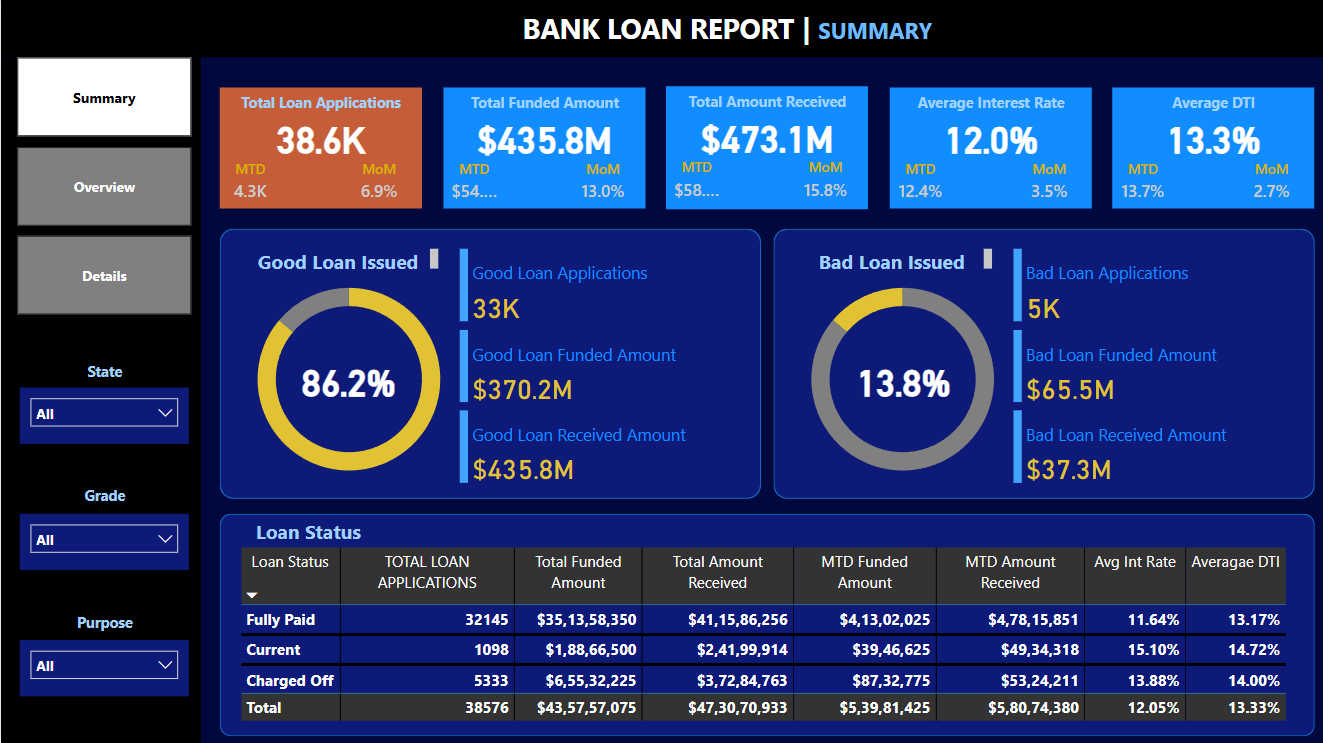

This screenshot's page, from the dashboard's own definition file:
{"tool":"powerbi","page":{"name":"Summary","canvas":[1280,720],"ordinal":0},"visuals":[{"type":"shape","box":[0,55.5,193,664.7],"z":0},{"type":"shape","box":[211.1,84.3,195.4,117],"z":0,"group":"g2"},{"type":"shape","box":[211.1,220.8,522.4,260.6],"z":0,"group":"g1"},{"type":"shape","box":[745.6,220.8,522.4,260.6],"z":0,"group":"g7"},{"type":"card","fields":{"Values":["public bankloan1.Total Amount Received"]},"box":[641.8,99.4,195.4,65.1],"z":1000,"group":"g4"},{"type":"card","fields":{"Values":["public bankloan1.TOTAL LOAN APPLICATIONS"]},"box":[211.1,100,195.4,65.1],"z":1000,"group":"g2"},{"type":"card","fields":{"Values":["public bankloan1.Total Funded Amount"]},"box":[426.5,100,195.4,65.1],"z":1000,"group":"g3"},{"type":"card","fields":{"Values":["public bankloan1.Avg Int Rate"]},"box":[857.2,100,195.4,65.1],"z":1000,"group":"g5"},{"type":"card","fields":{"Values":["public bankloan1.Averagae DTI"]},"box":[1072.5,100,195.4,65.1],"z":1000,"group":"g6"},{"type":"donutChart","fields":{"Category":["public bankloan1.Good vs Bad Loans"],"Y":["public bankloan1.TOTAL LOAN APPLICATIONS"]},"box":[211.1,251,249.7,230.4],"z":1000,"group":"g1"},{"type":"donutChart","fields":{"Category":["public bankloan1.Good vs Bad Loans"],"Y":["public bankloan1.TOTAL LOAN APPLICATIONS"]},"box":[745.6,251,249.7,230.4],"z":1000,"group":"g7"},{"type":"shape","box":[211.1,495.8,1056.8,214.7],"z":1000},{"type":"textbox","box":[641.8,83.7,195.4,31.4],"z":2000,"group":"g4"},{"type":"textbox","box":[211.1,84.3,195.4,31.4],"z":2000,"group":"g2"},{"type":"textbox","box":[426.5,84.3,195.4,31.4],"z":2000,"group":"g3"},{"type":"textbox","box":[857.2,84.3,195.4,31.4],"z":2000,"group":"g5"},{"type":"textbox","box":[1072.5,84.3,195.4,31.4],"z":2000,"group":"g6"},{"type":"group","id":"g1","title":"Group 2","box":[211.1,220.8,522.4,260.6],"z":2000},{"type":"textbox","box":[231.6,235.3,195.4,31.4],"z":2000,"group":"g1"},{"type":"textbox","box":[766.1,235.3,195.4,31.4],"z":2000,"group":"g7"},{"type":"shape","box":[0,0,1280,55.5],"z":3000},{"type":"card","title":"MTD","fields":{"Values":["public bankloan1.MTD Amount Received"]},"box":[641.8,152.5,59.1,48.3],"z":3000,"group":"g4"},{"type":"card","title":"MTD","fields":{"Values":["public bankloan1.MTD Loan Applications"]},"box":[211.1,153.1,59.1,48.3],"z":3000,"group":"g2"},{"type":"card","title":"MTD","fields":{"Values":["public bankloan1.MTD Funded Amount"]},"box":[426.5,153.1,59.1,48.3],"z":3000,"group":"g3"},{"type":"card","title":"MTD","fields":{"Values":["public bankloan1.MTD Average Interest Rate"]},"box":[857.2,153.1,59.1,48.3],"z":3000,"group":"g5"},{"type":"card","title":"MTD","fields":{"Values":["public bankloan1.MTD Average DTI Rate"]},"box":[1072.5,153.1,59.1,48.3],"z":3000,"group":"g6"},{"type":"card","title":"MoM","fields":{"Values":["public bankloan1.MoM Amount Received"]},"box":[766.1,152.5,59.1,48.3],"z":4000,"group":"g4"},{"type":"card","title":"MoM","fields":{"Values":["public bankloan1.MoM Loan Applications"]},"box":[335.4,153.1,59.1,48.3],"z":4000,"group":"g2"},{"type":"card","title":"MoM","fields":{"Values":["public bankloan1.MoM Funded Amount"]},"box":[550.8,153.1,59.1,48.3],"z":4000,"group":"g3"},{"type":"card","title":"MoM","fields":{"Values":["public bankloan1.MoM Avg Int Rate"]},"box":[981.5,153.1,59.1,48.3],"z":4000,"group":"g5"},{"type":"card","title":"MoM","fields":{"Values":["public bankloan1.MoM Avg DTI"]},"box":[1196.8,153.1,59.1,48.3],"z":4000,"group":"g6"},{"type":"textbox","box":[24.1,343.8,152,31.4],"z":4000},{"type":"textbox","box":[199.1,495.8,195.4,45.8],"z":5000},{"type":"card","fields":{"Values":["public bankloan1.Good Loan Percent"]},"box":[237.7,334.2,195.4,65.1],"z":6000},{"type":"textbox","box":[498.3,3.6,463.3,47.1],"z":7000},{"type":"group","id":"g2","title":"Group 1","box":[211.1,84.3,195.4,117],"z":8000},{"type":"group","id":"g3","title":"Group 1","box":[426.5,84.3,195.4,117],"z":9000},{"type":"group","id":"g4","title":"Group 1","box":[641.8,83.7,195.4,118.2],"z":10000},{"type":"group","id":"g5","title":"Group 1","box":[857.2,84.3,195.4,117],"z":11000},{"type":"cardVisual","fields":{"Data":["public bankloan1.Good Loan Applications","public bankloan1.Good Loan Funded Amount","public bankloan1.Good Loan Received Amount"]},"box":[437.9,235.3,295.6,237.7],"z":11001,"group":"g1"},{"type":"cardVisual","fields":{"Data":["public bankloan1.Bad Loan Applications","public bankloan1.Bad Loan Funded Amount","public bankloan1.Bad Loan Received Amount"]},"box":[972.4,235.3,295.6,237.7],"z":11001,"group":"g7"},{"type":"group","id":"g6","title":"Group 1","box":[1072.5,84.3,195.4,117],"z":12000},{"type":"group","id":"g7","title":"Group 2","box":[745.6,220.8,522.4,260.6],"z":13000},{"type":"card","fields":{"Values":["public bankloan1.Bad Loan Percent"]},"box":[773.3,334.2,195.4,65.1],"z":14000},{"type":"tableEx","fields":{"Values":["public bankloan1.loan_status","public bankloan1.TOTAL LOAN APPLICATIONS","public bankloan1.Total Funded Amount","public bankloan1.Total Amount Received","public bankloan1.MTD Funded Amount","public bankloan1.MTD Amount Received","public bankloan1.Avg Int Rate","public bankloan1.Averagae DTI"]},"box":[225.6,523.6,1029.1,187],"z":15000},{"type":"slicer","fields":{"Values":["public bankloan1.address_state"]},"box":[18.4,373.6,162.9,54.3],"z":16000},{"type":"slicer","fields":{"Values":["public bankloan1.grade"]},"box":[18.4,496.2,162.9,54.3],"z":17000},{"type":"textbox","box":[24.1,463.3,152,32.6],"z":18000},{"type":"slicer","fields":{"Values":["public bankloan1.purpose"]},"box":[18.4,617.7,162.9,54.3],"z":19000},{"type":"textbox","box":[24.1,586.3,152,31.4],"z":20000},{"type":"pageNavigator","box":[15.4,55.5,168.9,250.9],"z":20001}]}

Visuals, with their boxes in screenshot pixels (x1, y1, x2, y2), scaled from the page's 1280x720 canvas onto the 1323x743 screenshot:
shape: [0,57,199,742]
shape: [218,87,420,208]
shape: [218,228,758,497]
shape: [771,228,1311,497]
card - public bankloan1.Total Amount Received: [663,103,865,170]
card - public bankloan1.TOTAL LOAN APPLICATIONS: [218,103,420,170]
card - public bankloan1.Total Funded Amount: [441,103,643,170]
card - public bankloan1.Avg Int Rate: [886,103,1088,170]
card - public bankloan1.Averagae DTI: [1109,103,1310,170]
donutChart - public bankloan1.Good vs Bad Loans x public bankloan1.TOTAL LOAN APPLICATIONS: [218,259,476,497]
donutChart - public bankloan1.Good vs Bad Loans x public bankloan1.TOTAL LOAN APPLICATIONS: [771,259,1029,497]
shape: [218,512,1310,733]
textbox: [663,86,865,119]
textbox: [218,87,420,119]
textbox: [441,87,643,119]
textbox: [886,87,1088,119]
textbox: [1109,87,1310,119]
"Group 2" group: [218,228,758,497]
textbox: [239,243,441,275]
textbox: [792,243,994,275]
shape: [0,0,1322,57]
"MTD" card: [663,157,724,207]
"MTD" card: [218,158,279,208]
"MTD" card: [441,158,502,208]
"MTD" card: [886,158,947,208]
"MTD" card: [1109,158,1170,208]
"MoM" card: [792,157,853,207]
"MoM" card: [347,158,408,208]
"MoM" card: [569,158,630,208]
"MoM" card: [1014,158,1076,208]
"MoM" card: [1237,158,1298,208]
textbox: [25,355,182,387]
textbox: [206,512,408,559]
card - public bankloan1.Good Loan Percent: [246,345,448,412]
textbox: [515,4,994,52]
"Group 1" group: [218,87,420,208]
"Group 1" group: [441,87,643,208]
"Group 1" group: [663,86,865,208]
"Group 1" group: [886,87,1088,208]
cardVisual - public bankloan1.Good Loan Applications x public bankloan1.Good Loan Funded Amount: [453,243,758,488]
cardVisual - public bankloan1.Bad Loan Applications x public bankloan1.Bad Loan Funded Amount: [1005,243,1311,488]
"Group 1" group: [1109,87,1310,208]
"Group 2" group: [771,228,1311,497]
card - public bankloan1.Bad Loan Percent: [799,345,1001,412]
tableEx - public bankloan1.loan_status x public bankloan1.TOTAL LOAN APPLICATIONS: [233,540,1297,733]
slicer - public bankloan1.address_state: [19,386,187,442]
slicer - public bankloan1.grade: [19,512,187,568]
textbox: [25,478,182,512]
slicer - public bankloan1.purpose: [19,637,187,693]
textbox: [25,605,182,637]
pageNavigator: [16,57,190,316]
